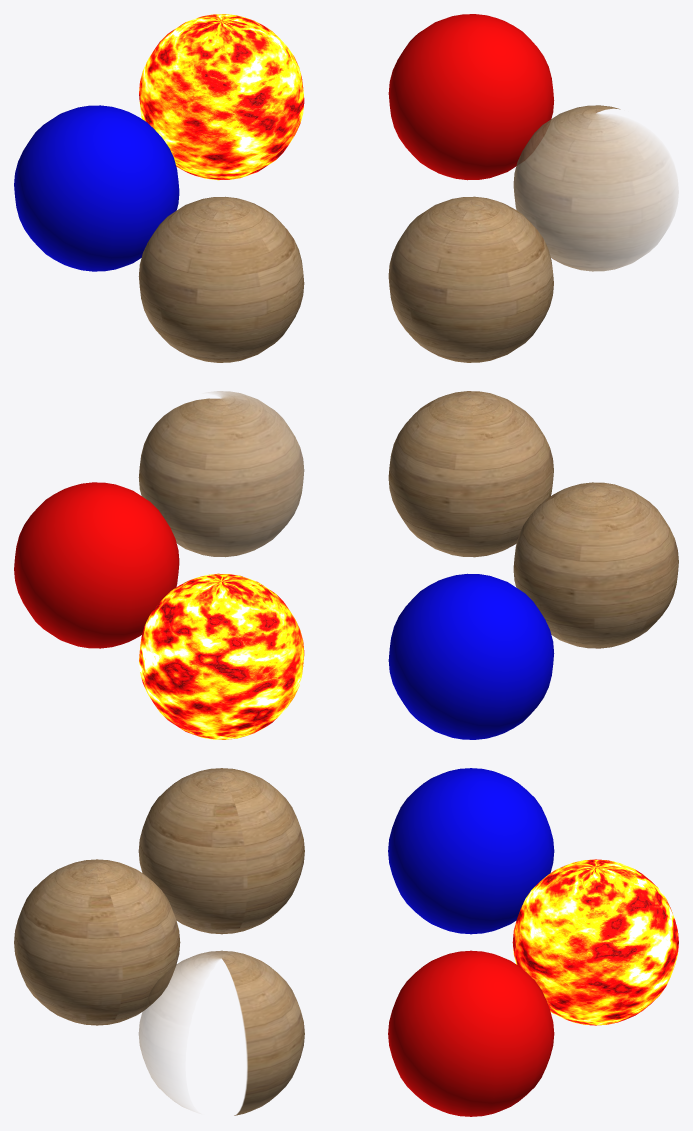
The model's file is PBR_Textures.gltf.
The picture shows the model from 3 angles, top to bottom: view 1: azimuth 30°, elevation 25°; view 2: azimuth 150°, elevation 25°; view 3: azimuth 270°, elevation 25°; orthographic projection.
Visible parts, largest first — view 1: SphereColorAO, SphereColor, SphereMetallicRoughness, SphereNormal, SphereColorEmissive, SphereColorOpacity; view 2: SphereNormal, SphereColorEmissive, SphereColorAO, SphereMetallicRoughness, SphereColor, SphereColorOpacity; view 3: SphereMetallicRoughness, SphereColor, SphereNormal, SphereColorAO, SphereColorEmissive, SphereColorOpacity.
Part boxes in pixels (<box>): SphereColorAO: <box>138,196,304,362</box>; SphereColor: <box>388,196,553,362</box>; SphereMetallicRoughness: <box>388,14,554,180</box>; SphereNormal: <box>14,105,179,271</box>; SphereColorEmissive: <box>139,14,304,180</box>; SphereColorOpacity: <box>513,105,676,271</box>; SphereNormal: <box>388,573,554,739</box>; SphereColorEmissive: <box>139,573,304,739</box>; SphereColorAO: <box>513,482,678,648</box>; SphereMetallicRoughness: <box>14,482,179,648</box>; SphereColor: <box>388,391,553,557</box>; SphereColorOpacity: <box>138,391,304,557</box>; SphereMetallicRoughness: <box>388,950,554,1116</box>; SphereColor: <box>14,859,180,1025</box>; SphereNormal: <box>388,768,554,934</box>; SphereColorAO: <box>138,768,304,934</box>; SphereColorEmissive: <box>512,859,678,1025</box>; SphereColorOpacity: <box>138,950,304,1115</box>.
Bounding box in the file's own units: 7.2 × 2 × 8.
Materials: 6 (4 with a texture image).
